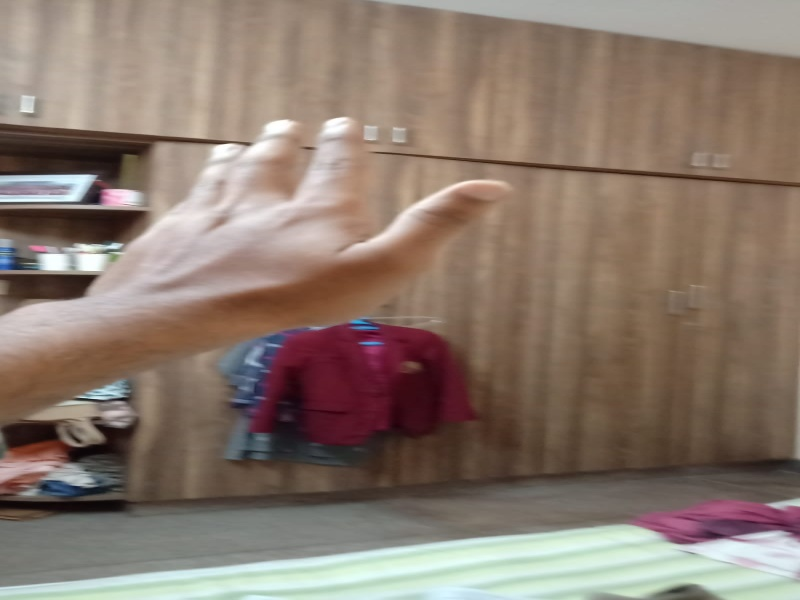Hand: (25, 105, 520, 367)
